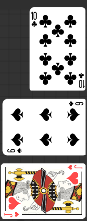10C: (30, 11, 38, 29), (77, 72, 85, 89)
6C: (5, 147, 23, 155)
